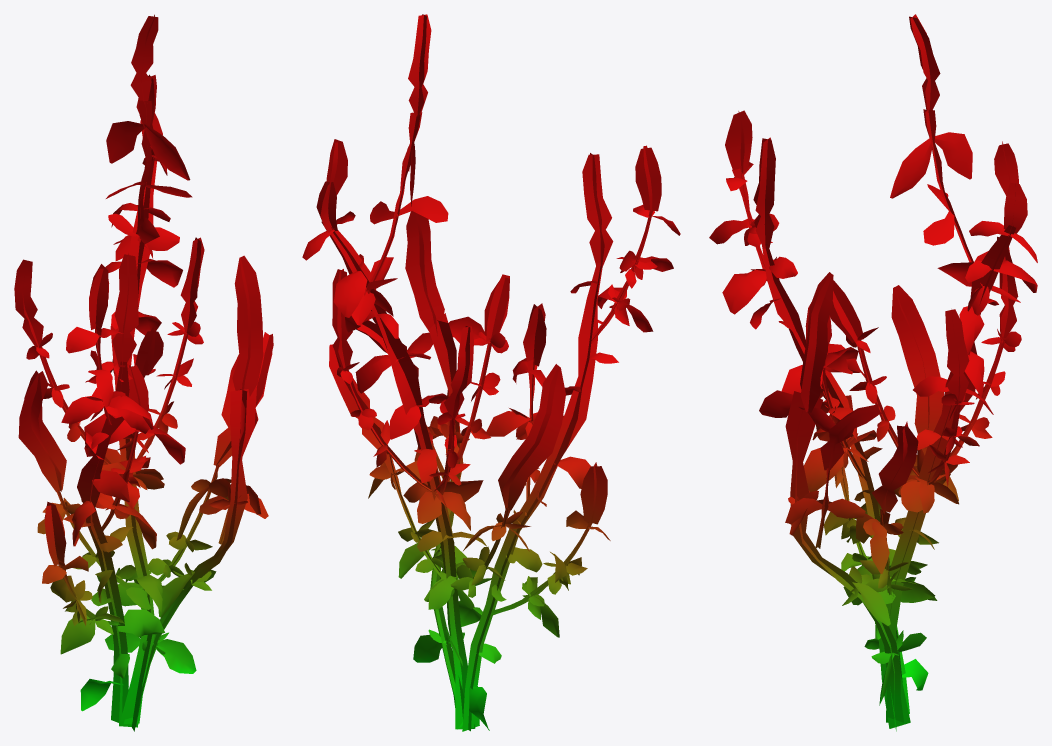
Rendered from Var2_LOD0.fbx.
3 renders of one model, left to right at view 1: azimuth 30°, elevation 25°; view 2: azimuth 150°, elevation 25°; view 3: azimuth 270°, elevation 25°, orthographic. The views are drawn at different scales.
Visible parts, largest first — view 1: _e822_Var2_LOD0; view 2: _e822_Var2_LOD0; view 3: _e822_Var2_LOD0.
Part boxes in pixels (x1,y1,x2,y2): _e822_Var2_LOD0: (14,14,273,731); _e822_Var2_LOD0: (302,14,680,731); _e822_Var2_LOD0: (709,14,1037,731).
Bounding box in the file's own units: 36.08 × 89.03 × 36.42.
